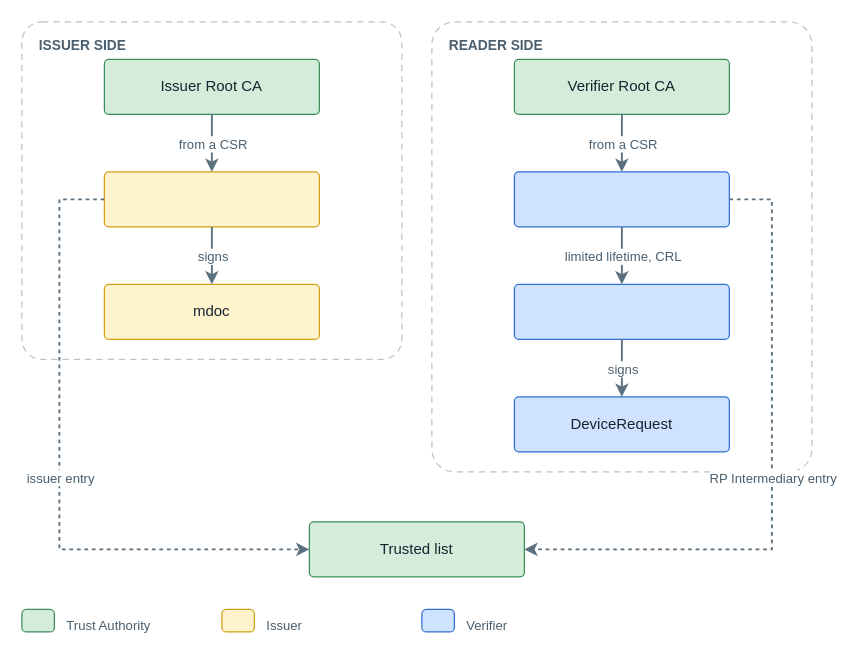
Image size: 858x660. Some labels were removed from this diagram. The centre of each missing label's shape, as x and y in pixels:
Document Signer Certificate: point 211,199
Verifier Device Certificate: point 621,311
Verifier Issuing CA: point 621,199
